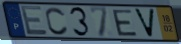3: (67, 6, 91, 38)
7: (89, 5, 110, 39)
C: (45, 6, 70, 37)
E: (19, 4, 49, 36), (111, 9, 139, 38)
V: (132, 8, 156, 39)
